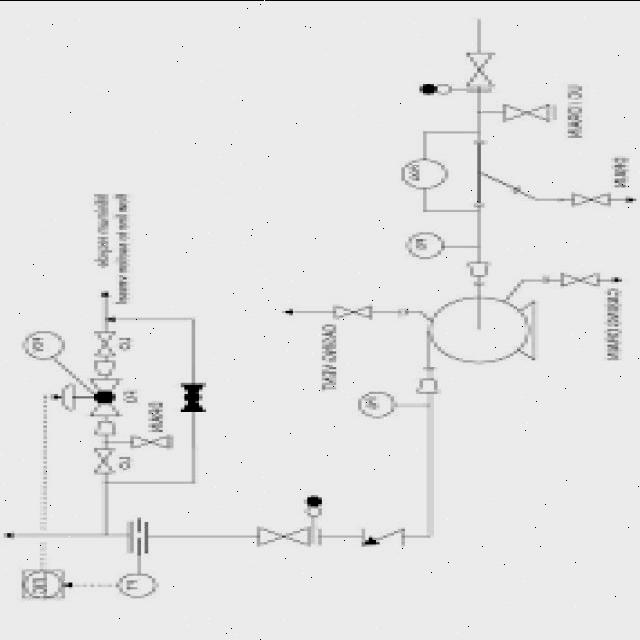Centrifugal Pump: (420, 283, 554, 369)
Gate Valve: (448, 46, 514, 88), (241, 522, 306, 545), (556, 264, 606, 292), (564, 188, 618, 212), (490, 99, 550, 120), (328, 300, 376, 320), (126, 432, 170, 453), (88, 326, 116, 356), (91, 444, 116, 472)
Orifice: (356, 520, 414, 552), (120, 517, 158, 555)
Pneumatic-Diaphragm Globe Valve: (59, 374, 124, 420)
